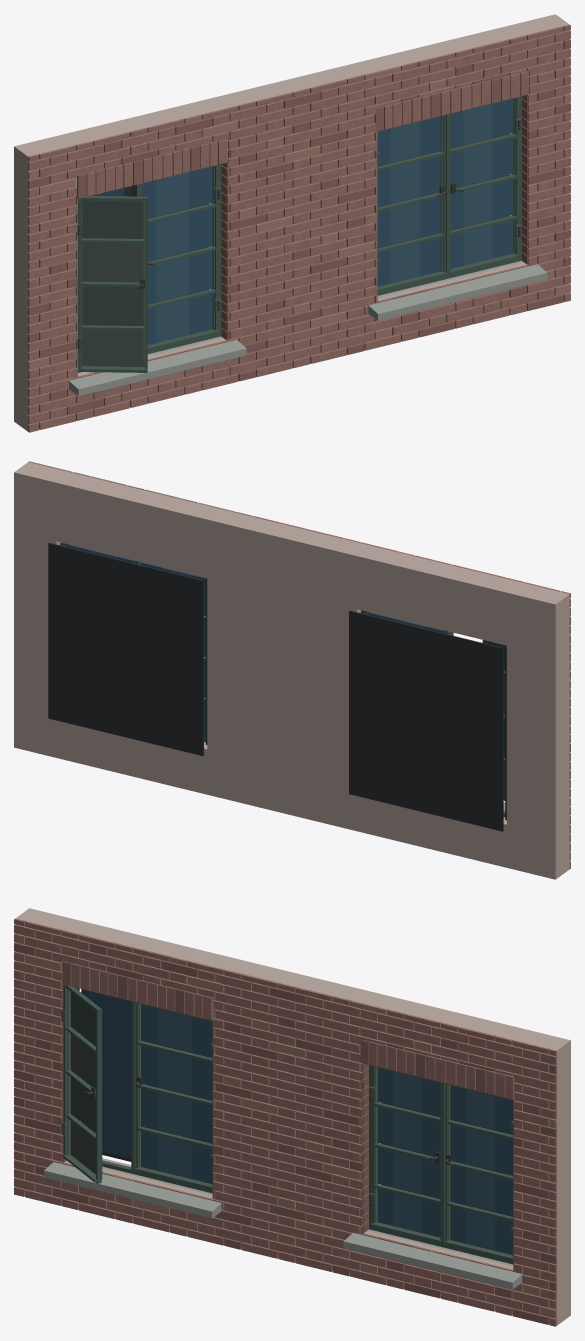
The model's file is changning-zhongyi-village-blue-steel-casements-lod.glb.
The picture shows the model from 3 angles, top to bottom: view 1: azimuth 30°, elevation 25°; view 2: azimuth 150°, elevation 25°; view 3: azimuth 330°, elevation 25°; orthographic projection.
Visible parts, largest first — view 1: 中一村江苏路46弄住宅青色钢窗与立砖窗楣; view 2: 中一村江苏路46弄住宅青色钢窗与立砖窗楣; view 3: 中一村江苏路46弄住宅青色钢窗与立砖窗楣.
Boxes of the visible parts, box(x1,y1,x2,y2) form: 中一村江苏路46弄住宅青色钢窗与立砖窗楣: box(14, 14, 570, 432); 中一村江苏路46弄住宅青色钢窗与立砖窗楣: box(14, 461, 570, 879); 中一村江苏路46弄住宅青色钢窗与立砖窗楣: box(14, 908, 570, 1326).
Size of the model in its own units: 5.13 by 2.49 by 0.6691.
Materials: 17 (1 with a texture image).
